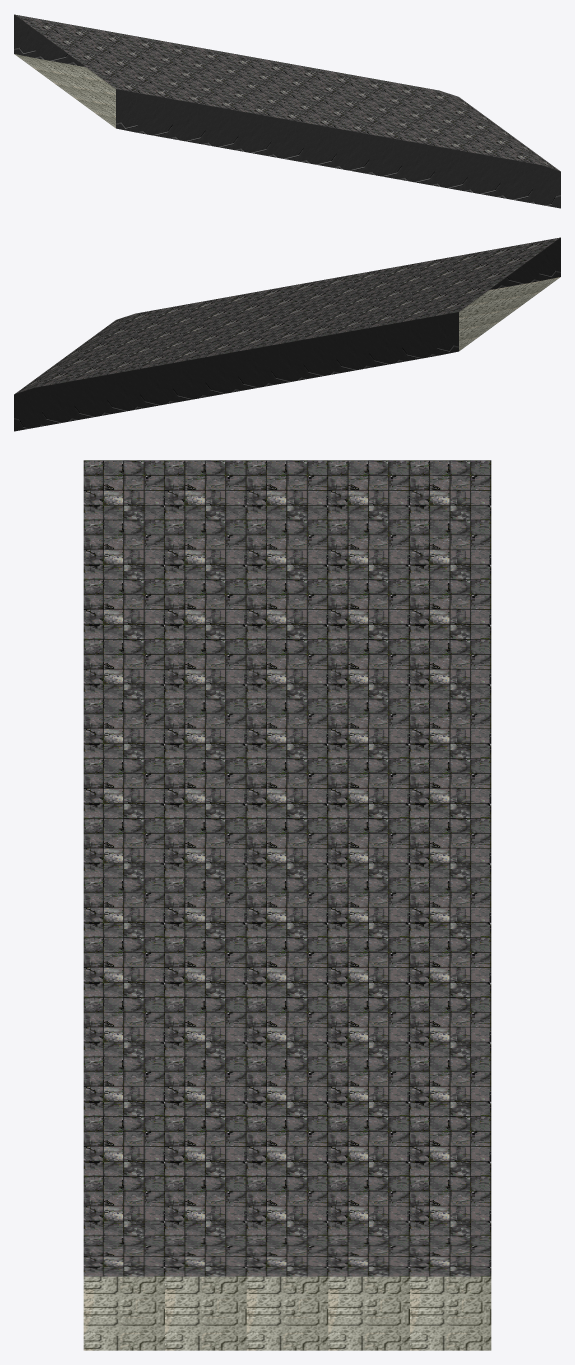
File: tunnel2.obj
3 views of the same model, one above another, from view 1: azimuth 30°, elevation 25°; view 2: azimuth 150°, elevation 25°; view 3: azimuth 270°, elevation 25° (orthographic). The views are drawn at different scales.
Visible parts, largest first — view 1: tunnel2, tunnel2_wall, tunnel2_floor; view 2: tunnel2, tunnel2_wall, tunnel2_floor; view 3: tunnel2, tunnel2_floor.
Part boxes in pixels (x1=…): tunnel2: x1=14, y1=14, x2=560, y2=171; tunnel2_wall: x1=14, y1=14, x2=560, y2=208; tunnel2_floor: x1=14, y1=54, x2=115, y2=128; tunnel2: x1=14, y1=237, x2=560, y2=394; tunnel2_wall: x1=14, y1=237, x2=560, y2=431; tunnel2_floor: x1=459, y1=277, x2=560, y2=351; tunnel2: x1=83, y1=460, x2=491, y2=1276; tunnel2_floor: x1=83, y1=1276, x2=491, y2=1350.
Size of the model in its own units: 252 by 123 by 100.
3 materials, 3 textured.
